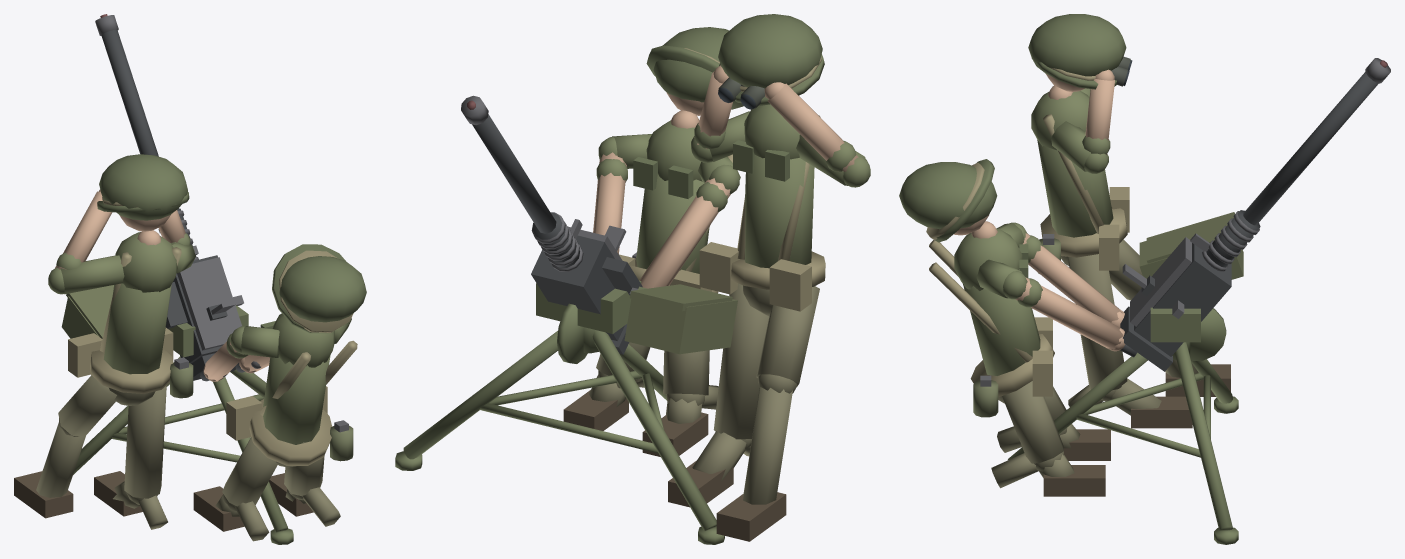
The model's file is antiaircraft.glb.
The picture shows the model from 3 angles, left to right: view 1: azimuth 30°, elevation 25°; view 2: azimuth 150°, elevation 25°; view 3: azimuth 270°, elevation 25°; orthographic projection. The views are drawn at different scales.
Parts seen in each view (by area): view 1: Spotter, Gunner, M2HB_50Cal, M63_AA_Mount; view 2: Spotter, Gunner, M63_AA_Mount, M2HB_50Cal; view 3: Gunner, Spotter, M63_AA_Mount, M2HB_50Cal.
Part boxes in pixels (x1=…): Spotter: x1=14, y1=154, x2=195, y2=529; Gunner: x1=193, y1=244, x2=366, y2=541; M2HB_50Cal: x1=95, y1=14, x2=260, y2=381; M63_AA_Mount: x1=61, y1=285, x2=293, y2=544; Spotter: x1=668, y1=14, x2=870, y2=541; Gunner: x1=563, y1=27, x2=743, y2=456; M63_AA_Mount: x1=395, y1=280, x2=737, y2=544; M2HB_50Cal: x1=461, y1=95, x2=642, y2=354; Gunner: x1=899, y1=159, x2=1125, y2=496; Spotter: x1=1028, y1=14, x2=1230, y2=428; M63_AA_Mount: x1=1008, y1=212, x2=1243, y2=544; M2HB_50Cal: x1=1120, y1=58, x2=1390, y2=371.
Size of the model in its own units: 0.7168 by 0.8136 by 0.8744.
